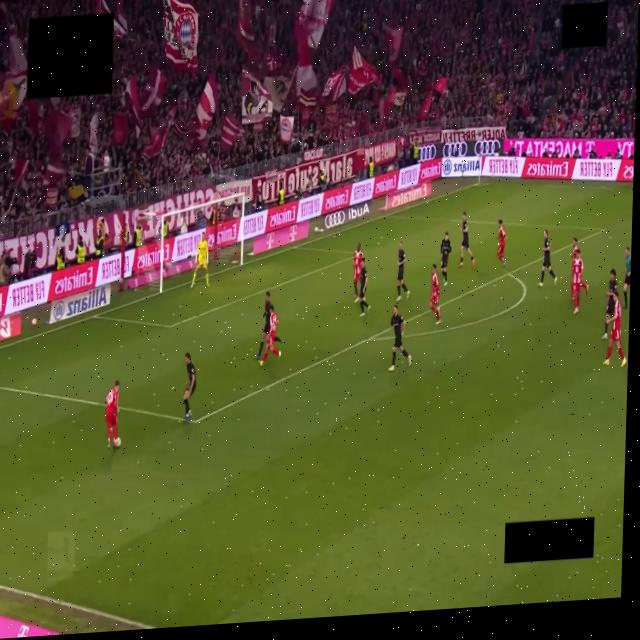ball: (114, 438, 120, 447)
player: (603, 293, 626, 366), (388, 306, 411, 371), (260, 307, 280, 365), (537, 230, 556, 287), (255, 292, 271, 359), (602, 270, 617, 339), (190, 234, 208, 288), (105, 380, 118, 450), (183, 353, 195, 421), (458, 213, 473, 267), (396, 242, 409, 301), (571, 249, 582, 314), (358, 259, 369, 316), (430, 264, 440, 324), (440, 232, 451, 286), (352, 243, 362, 302), (497, 219, 505, 267), (579, 265, 587, 295), (572, 238, 578, 259)
referee: (623, 247, 630, 309)
